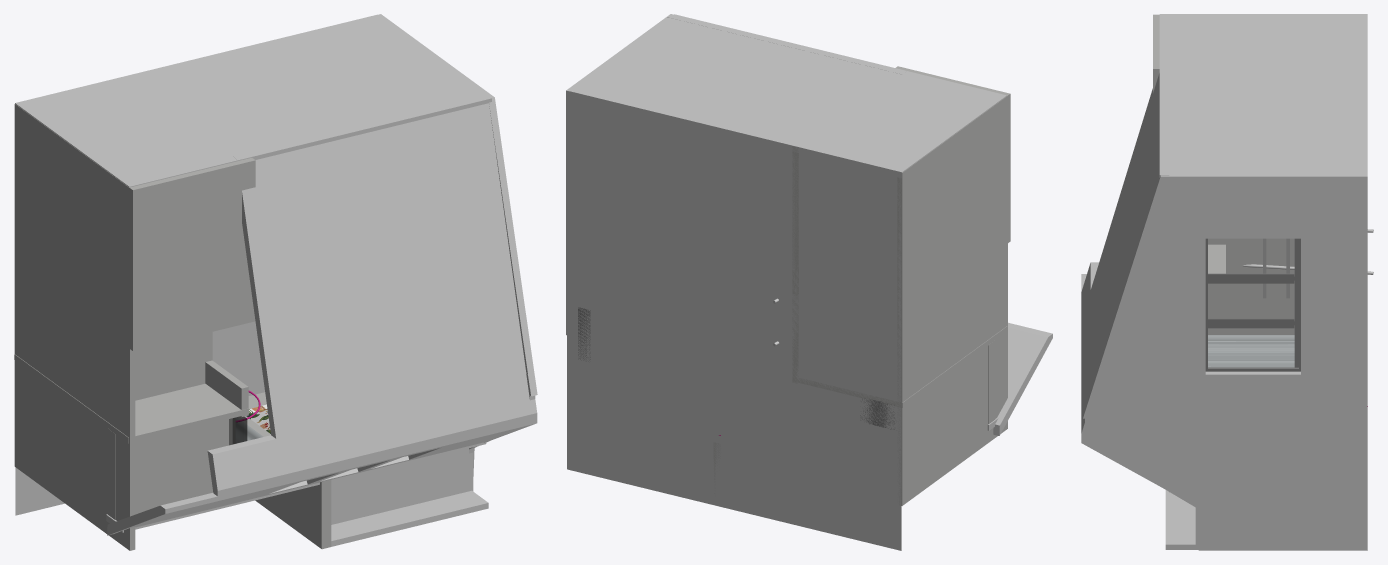
File: rehearsal for unity.fbx
3 renders of one model, left to right at view 1: azimuth 30°, elevation 25°; view 2: azimuth 150°, elevation 25°; view 3: azimuth 270°, elevation 25°, orthographic. The views are drawn at different scales.
Visible parts, largest first — view 1: walls, floor; view 2: floor, walls, washmach; view 3: walls, white curtain, Object_43, Object_38, Object_41, Object_42, wood shelf.
Boxes of the visible parts, x1,y1,x2,y2 form: walls: (14,14,537,550); floor: (15,321,264,515); floor: (567,92,901,550); walls: (566,14,1052,505); washmach: (578,307,894,429); walls: (1081,14,1367,550); white curtain: (1208,335,1294,367); Object_43: (1205,238,1300,371); Object_38: (1208,318,1294,328); Object_41: (1208,273,1294,283); Object_42: (1294,238,1298,367); wood shelf: (1242,229,1373,298).
Size of the model in its own units: 99.78 by 105 by 74.41.
